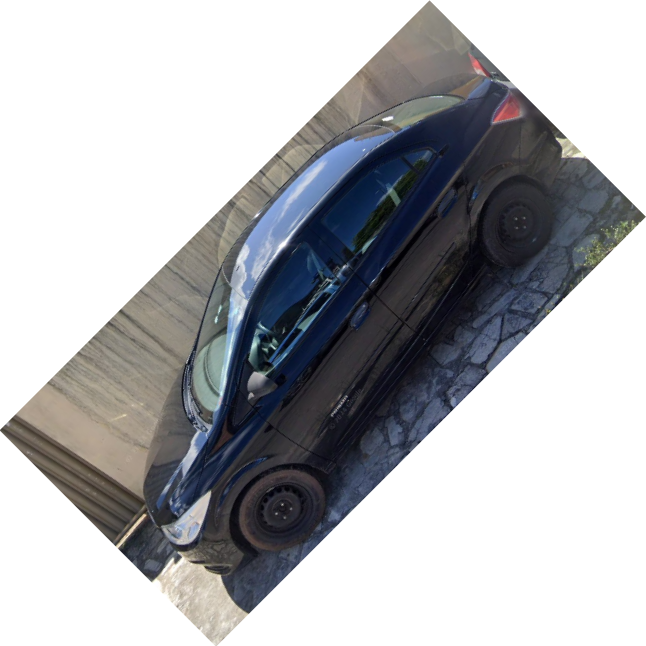car: (141, 73, 565, 582)
